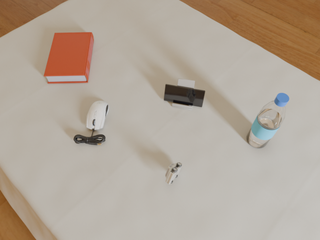book: (44, 32, 94, 83)
bottle: (247, 93, 289, 148)
mouse: (86, 101, 109, 132)
phone: (164, 84, 205, 107)
toy_car: (165, 162, 182, 184)
